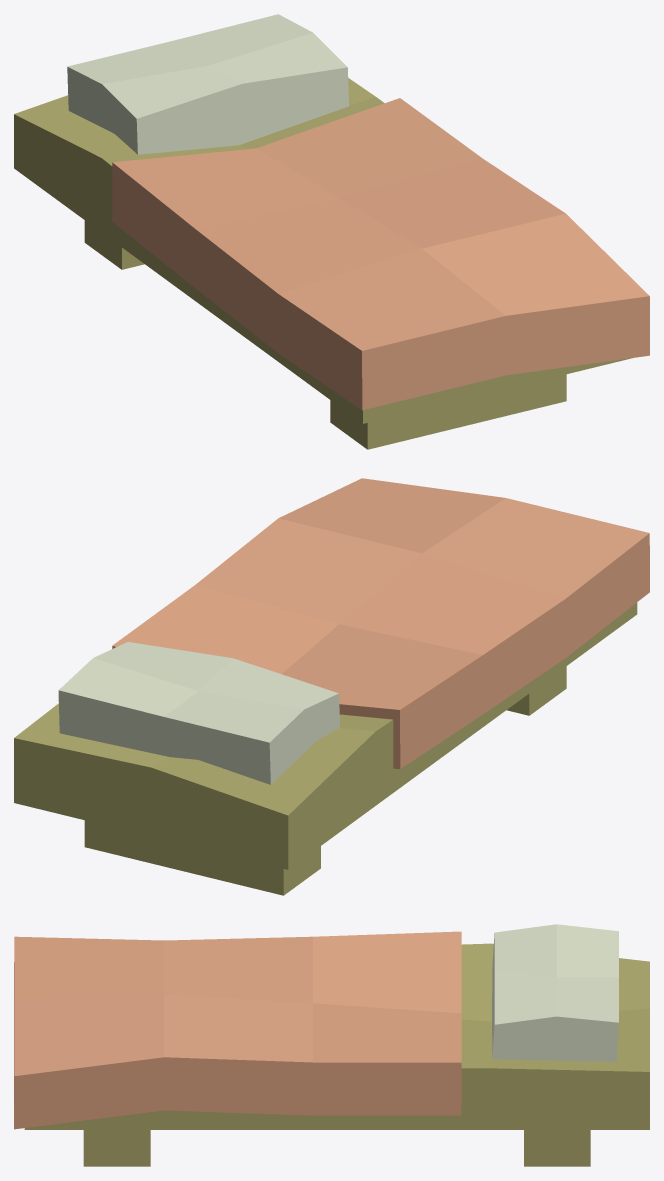
Rendered from bed.fbx.
The picture shows the model from 3 angles, top to bottom: view 1: azimuth 30°, elevation 25°; view 2: azimuth 150°, elevation 25°; view 3: azimuth 270°, elevation 25°; orthographic projection. The views are drawn at different scales.
Parts seen in each view (by area): view 1: Cube.008; view 2: Cube.008; view 3: Cube.008.
Boxes of the visible parts, x1,y1,x2,y2 form: Cube.008: [14, 14, 649, 449]; Cube.008: [14, 478, 649, 895]; Cube.008: [14, 924, 649, 1166].
Size of the model in its own units: 162 by 93.19 by 347.
